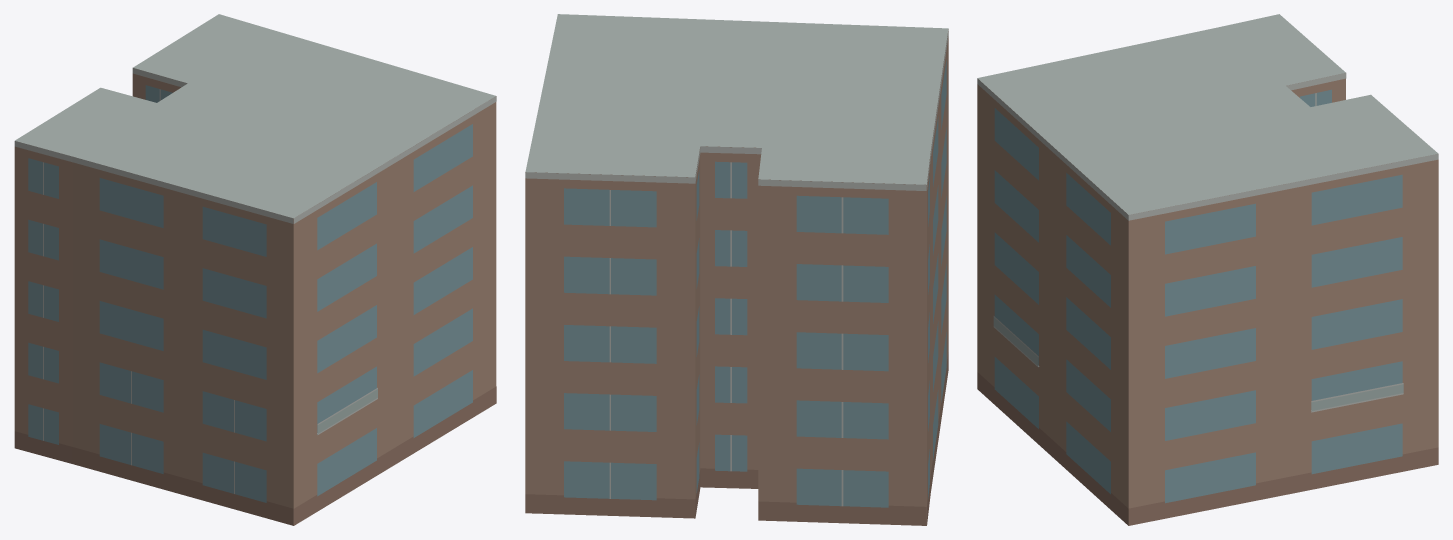
Rendered from survey-upis-32748803.glb.
3 views of the same model, side by side, from view 1: azimuth 30°, elevation 25°; view 2: azimuth 150°, elevation 25°; view 3: azimuth 270°, elevation 25° (orthographic). The views are drawn at different scales.
Visible parts, largest first — view 1: survey-upis-32748803.tmp; view 2: survey-upis-32748803.tmp; view 3: survey-upis-32748803.tmp.
Part boxes in pixels (bbox=[...]): survey-upis-32748803.tmp: bbox=[14, 14, 496, 525]; survey-upis-32748803.tmp: bbox=[525, 14, 948, 525]; survey-upis-32748803.tmp: bbox=[977, 14, 1438, 525].
Size of the model in its own units: 18.17 by 13.1 by 17.63.
